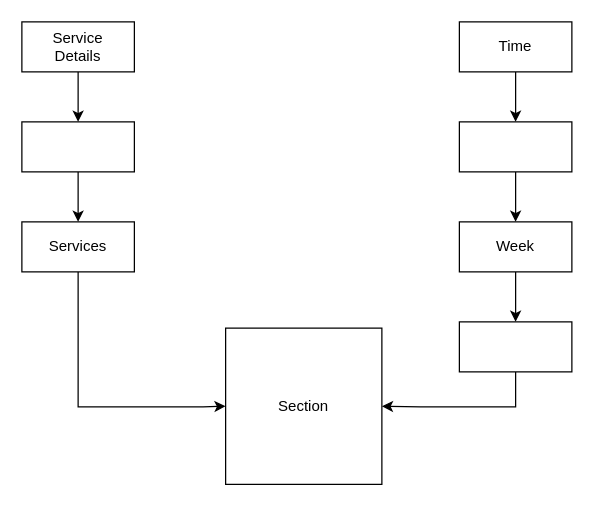
Image size: 594x506. Some labels were removed from this diagram. Here are the shapes that lost their labels. From the top down, the centre of each, then its label:
the point at 77,146: Service
the point at 515,146: Day
the point at 515,346: Personal Details
